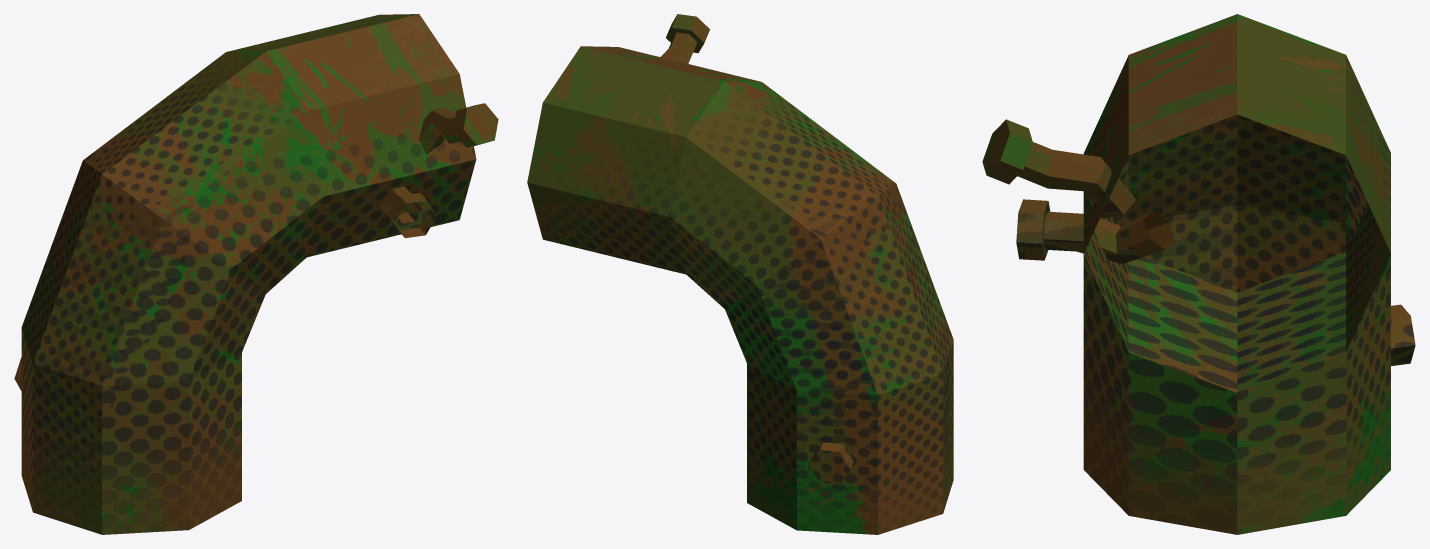
File: Pipe_curve.obj
3 renders of one model, left to right at view 1: azimuth 30°, elevation 25°; view 2: azimuth 150°, elevation 25°; view 3: azimuth 270°, elevation 25°, orthographic. The views are drawn at different scales.
Visible parts, largest first — view 1: Pipe_Curve; view 2: Pipe_Curve; view 3: Pipe_Curve.
Part boxes in pixels (x1,y1,x2,y2): Pipe_Curve: (14,14,498,534); Pipe_Curve: (527,14,953,534); Pipe_Curve: (982,14,1415,534).
Size of the model in its own units: 0.25 by 0.25 by 0.1803.
